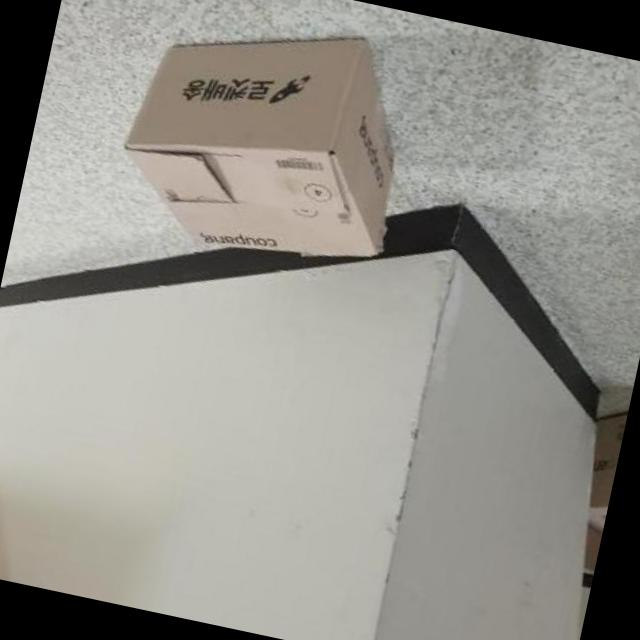box: (107, 0, 436, 295)
